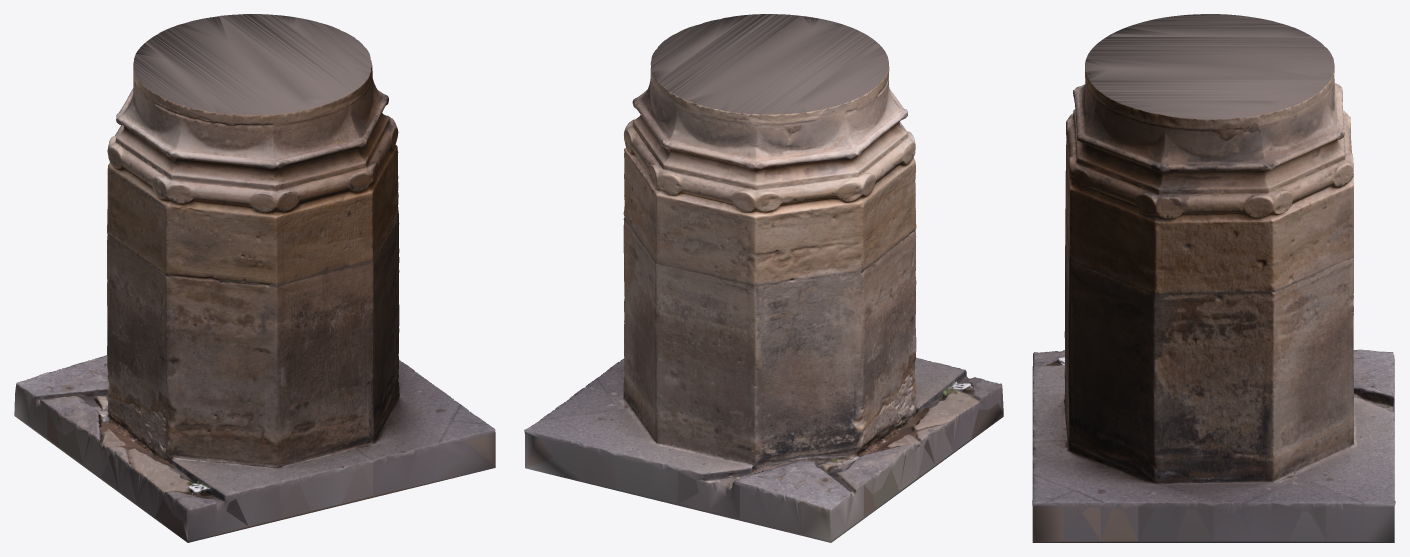
File: Kolumna_Model_final.fbx
The picture shows the model from 3 angles, left to right: view 1: azimuth 30°, elevation 25°; view 2: azimuth 150°, elevation 25°; view 3: azimuth 270°, elevation 25°; orthographic projection. The views are drawn at different scales.
Parts seen in each view (by area): view 1: Kolumna_Model_final; view 2: Kolumna_Model_final; view 3: Kolumna_Model_final.
Part boxes in pixels (box(x1,y1,x2,y2)): Kolumna_Model_final: box(14, 14, 495, 542); Kolumna_Model_final: box(524, 14, 1003, 542); Kolumna_Model_final: box(1032, 14, 1395, 542).
Size of the model in its own units: 0.4022 by 0.4833 by 0.4108.
